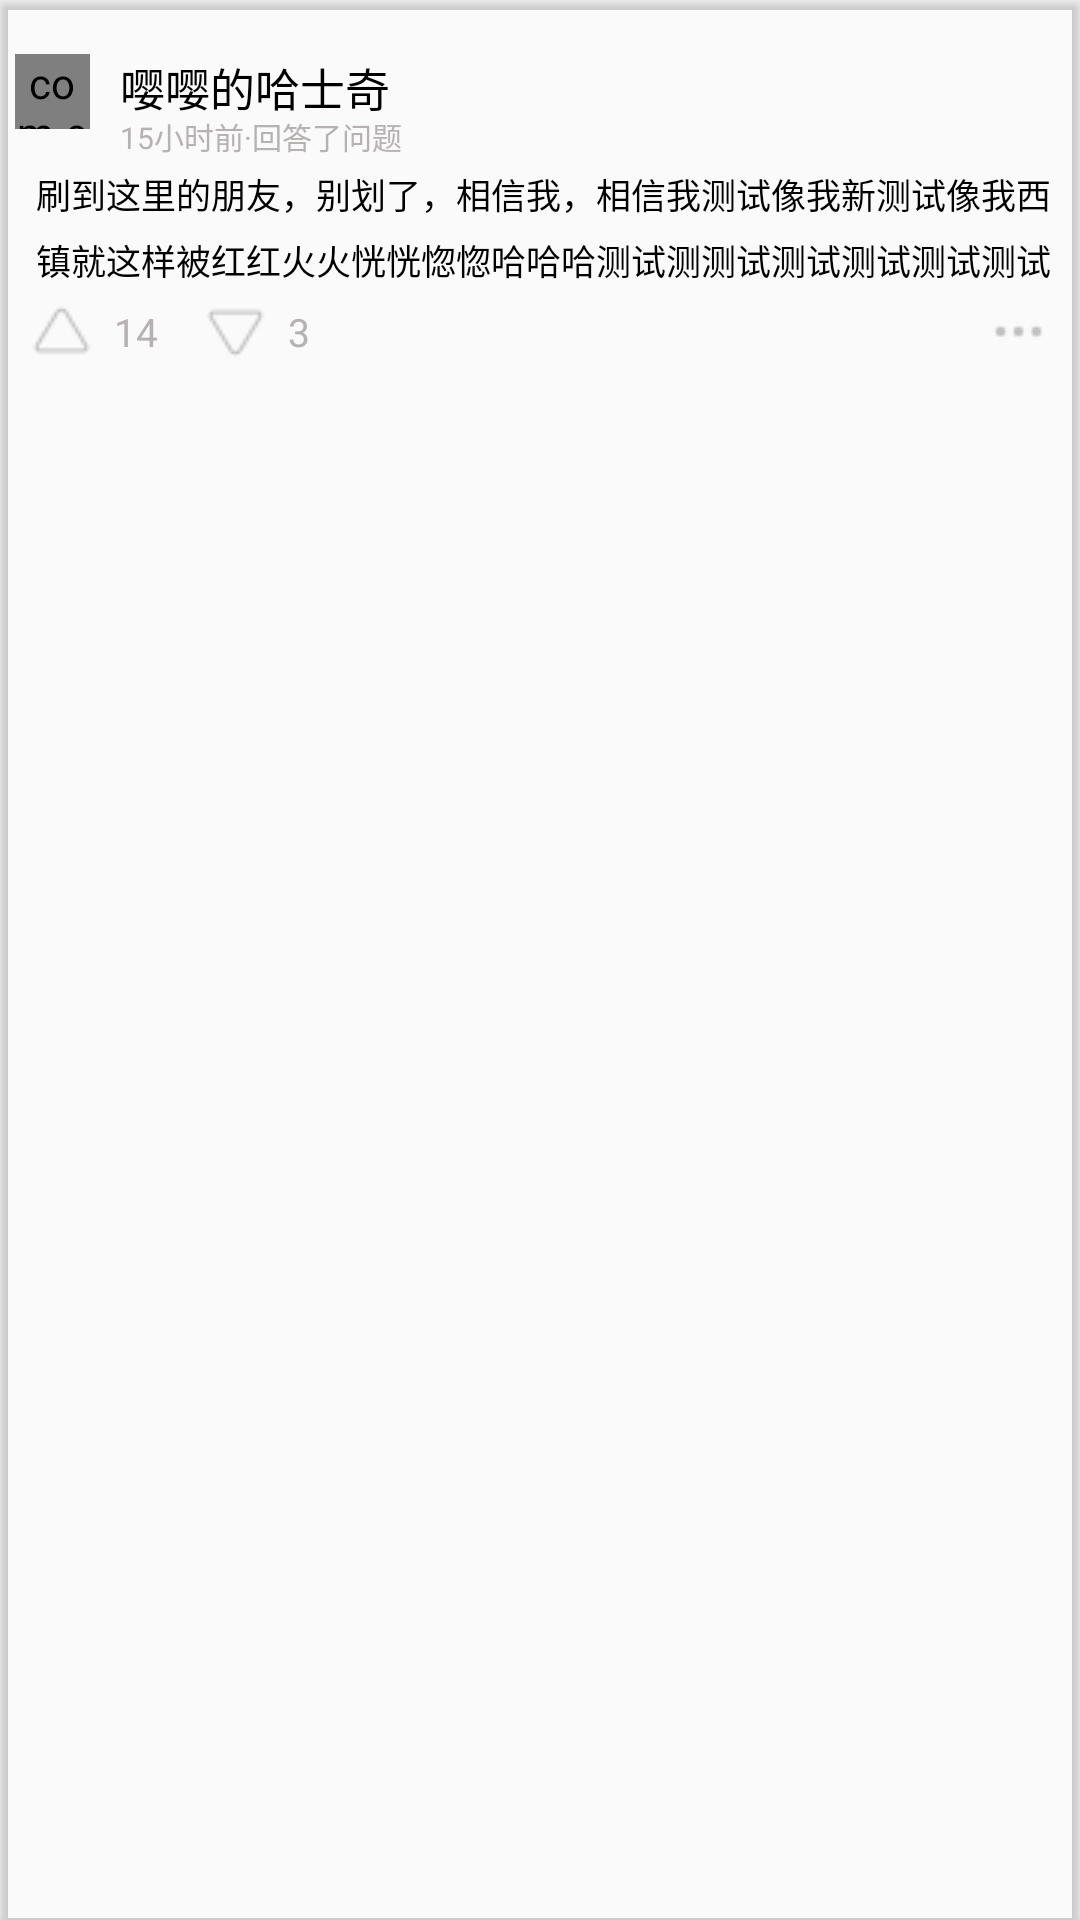

Screen size 1080w x 1920h. Icon name, then its center in pixels as point (x, y):
like: point (61, 330)
